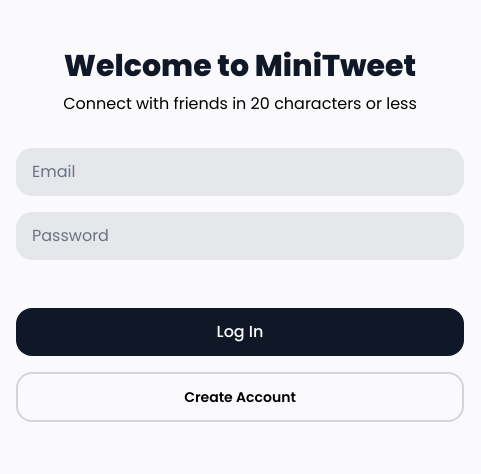
it: LoginPage › shows error message when login fails
The image size is (481, 474).
In the field with placeholder "Email": (240, 172) x1=16 y1=148 x2=464 y2=196, type "wrong@example.com"
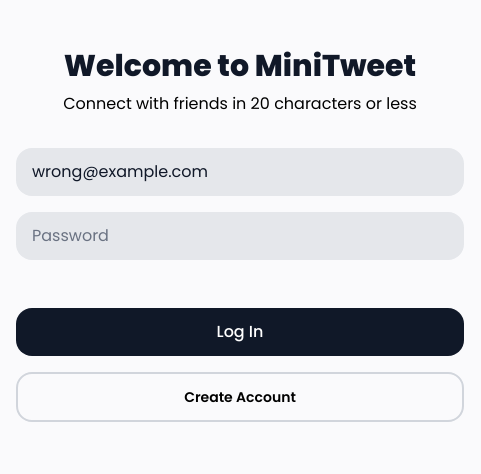
In the password field with placeholder "Password": (240, 236) x1=16 y1=212 x2=464 y2=260, type "wrongpass"
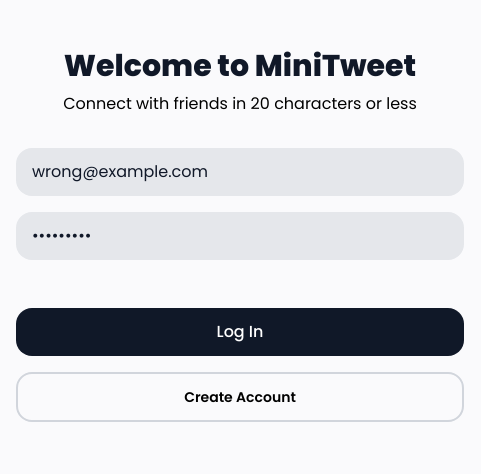
Click the button "Log In": (240, 332) x1=16 y1=308 x2=464 y2=356
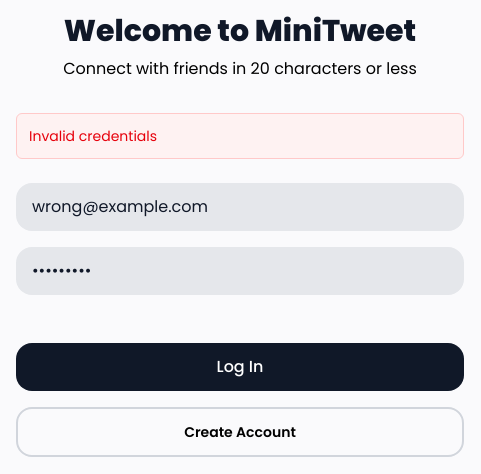
Expected: the text "Invalid credentials" is shown, x1=29 y1=126 x2=157 y2=146
